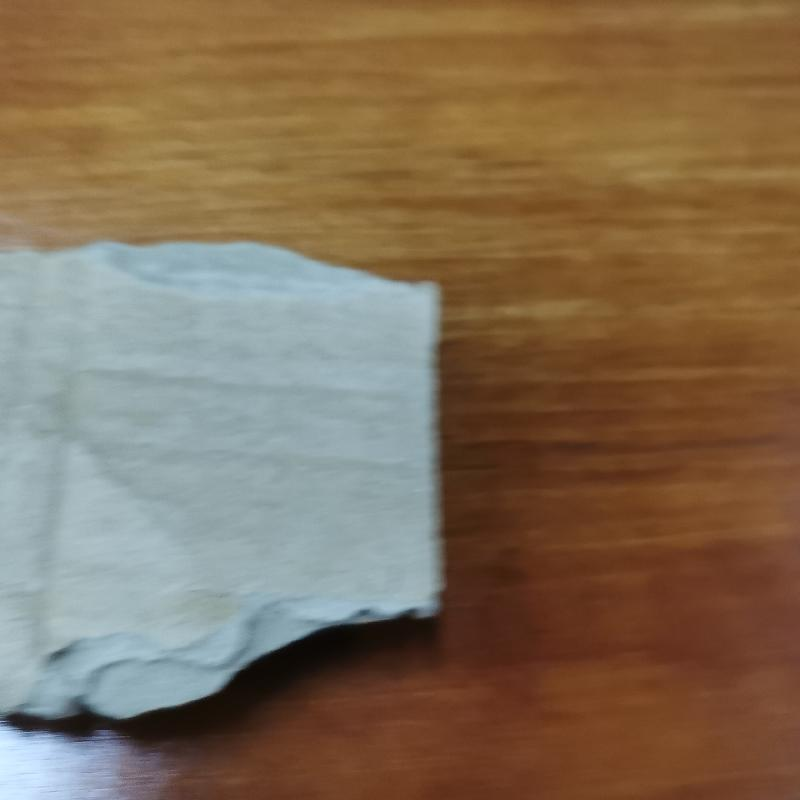boxes: (4, 237, 450, 730)
